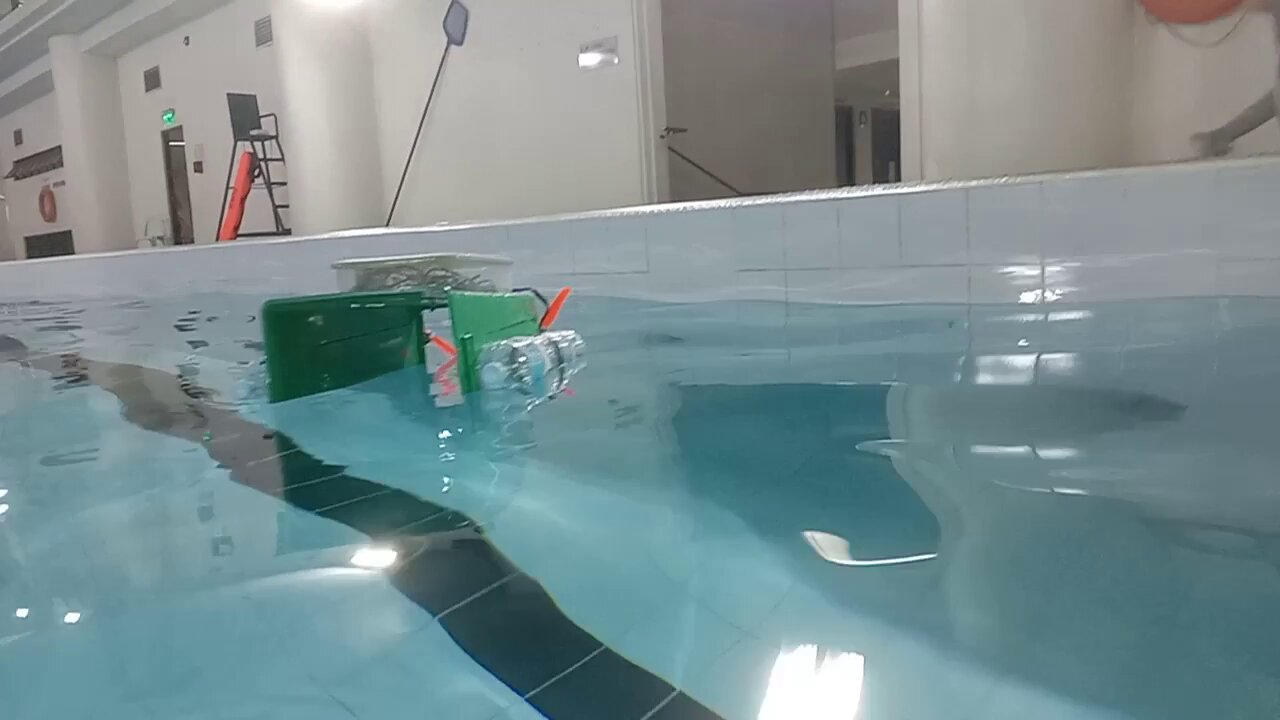drone: (232, 249, 590, 404)
